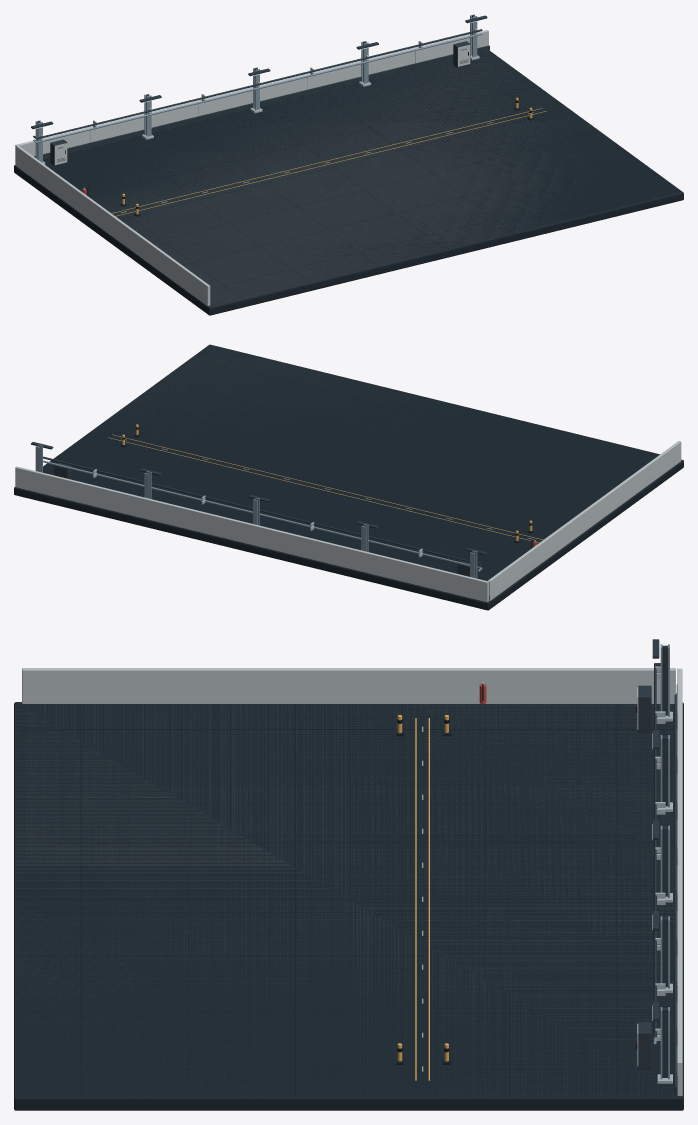
File: factory-hall.glb
The picture shows the model from 3 angles, top to bottom: view 1: azimuth 30°, elevation 25°; view 2: azimuth 150°, elevation 25°; view 3: azimuth 270°, elevation 25°; orthographic projection. The views are drawn at different scales.
Visible parts, largest first — view 1: factory_hall_Concrete_Satin, factory_hall_Cast_Base, factory_hall_Enamel_Pearl, factory_hall_Enamel_Graphite, factory_hall_Expansion_Joint, factory_hall_Brushed_Aluminium, factory_hall_Safety_Amber; view 2: factory_hall_Cast_Base, factory_hall_Enamel_Pearl, factory_hall_Concrete_Satin, factory_hall_Expansion_Joint, factory_hall_Brushed_Aluminium, factory_hall_Enamel_Graphite, factory_hall_Safety_Amber; view 3: factory_hall_Cast_Base, factory_hall_Concrete_Satin, factory_hall_Enamel_Pearl, factory_hall_Expansion_Joint, factory_hall_Enamel_Graphite, factory_hall_Brushed_Aluminium, factory_hall_Safety_Amber, factory_hall_Machined_Steel.
Part boxes in pixels (x1=…): factory_hall_Concrete_Satin: x1=15, y1=50, x2=682, y2=307; factory_hall_Cast_Base: x1=14, y1=50, x2=683, y2=315; factory_hall_Enamel_Pearl: x1=15, y1=30, x2=488, y2=305; factory_hall_Enamel_Graphite: x1=31, y1=15, x2=489, y2=166; factory_hall_Expansion_Joint: x1=49, y1=64, x2=661, y2=298; factory_hall_Brushed_Aluminium: x1=33, y1=14, x2=482, y2=162; factory_hall_Safety_Amber: x1=111, y1=97, x2=546, y2=216; factory_hall_Cast_Base: x1=14, y1=344, x2=683, y2=610; factory_hall_Enamel_Pearl: x1=15, y1=441, x2=681, y2=602; factory_hall_Concrete_Satin: x1=15, y1=344, x2=682, y2=602; factory_hall_Expansion_Joint: x1=67, y1=353, x2=648, y2=577; factory_hall_Brushed_Aluminium: x1=35, y1=444, x2=482, y2=578; factory_hall_Enamel_Graphite: x1=31, y1=442, x2=489, y2=599; factory_hall_Safety_Amber: x1=108, y1=424, x2=543, y2=542; factory_hall_Cast_Base: x1=14, y1=702, x2=683, y2=1110; factory_hall_Concrete_Satin: x1=15, y1=702, x2=682, y2=1097; factory_hall_Enamel_Pearl: x1=22, y1=668, x2=682, y2=1096; factory_hall_Expansion_Joint: x1=19, y1=704, x2=674, y2=1095; factory_hall_Enamel_Graphite: x1=638, y1=639, x2=676, y2=1094; factory_hall_Brushed_Aluminium: x1=653, y1=644, x2=677, y2=1079; factory_hall_Safety_Amber: x1=397, y1=715, x2=448, y2=1080; factory_hall_Machined_Steel: x1=481, y1=666, x2=672, y2=1083.
Bounding box in the file's own units: 35 × 3.53 × 25.
